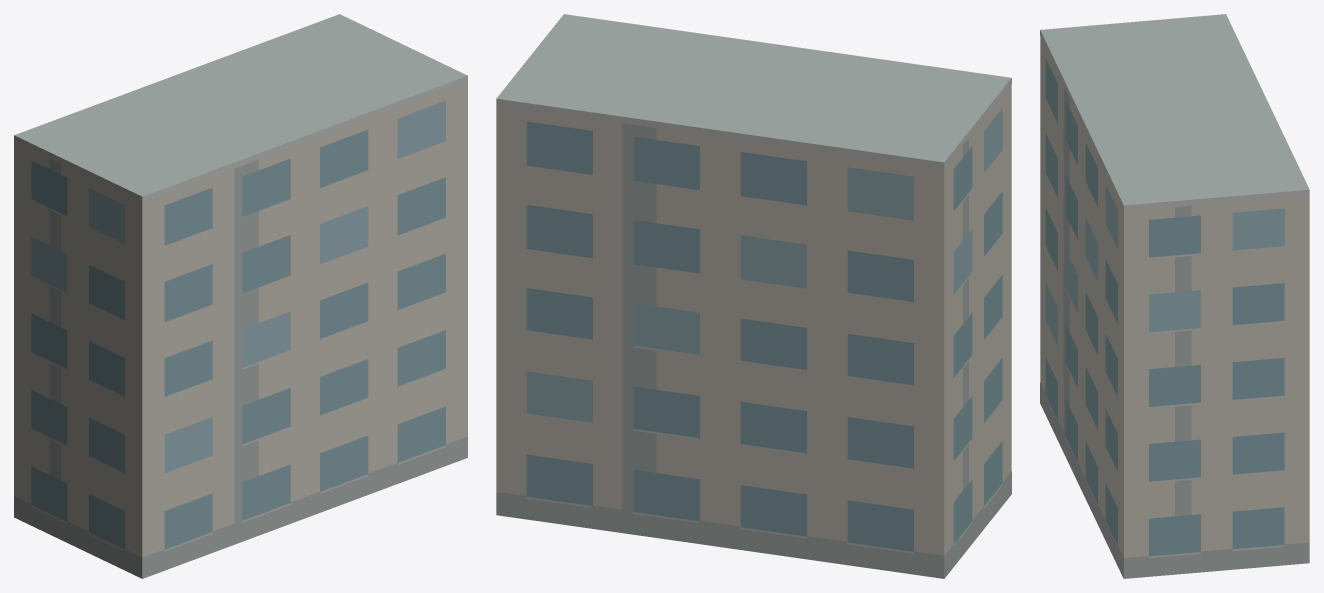
File: residential-dd680a1c-9d82-4691-8487-d7613a53ce77.glb
3 renders of one model, left to right at view 1: azimuth 30°, elevation 25°; view 2: azimuth 150°, elevation 25°; view 3: azimuth 270°, elevation 25°, orthographic. The views are drawn at different scales.
Parts seen in each view (by area): view 1: residential-dd680a1c-9d82-4691-8487-d7613a53ce77.tmp; view 2: residential-dd680a1c-9d82-4691-8487-d7613a53ce77.tmp; view 3: residential-dd680a1c-9d82-4691-8487-d7613a53ce77.tmp.
Part boxes in pixels (x1=…): residential-dd680a1c-9d82-4691-8487-d7613a53ce77.tmp: x1=14, y1=14, x2=467, y2=578; residential-dd680a1c-9d82-4691-8487-d7613a53ce77.tmp: x1=496, y1=14, x2=1011, y2=578; residential-dd680a1c-9d82-4691-8487-d7613a53ce77.tmp: x1=1040, y1=14, x2=1309, y2=578.
Size of the model in its own units: 16.77 by 15.25 by 9.99.
